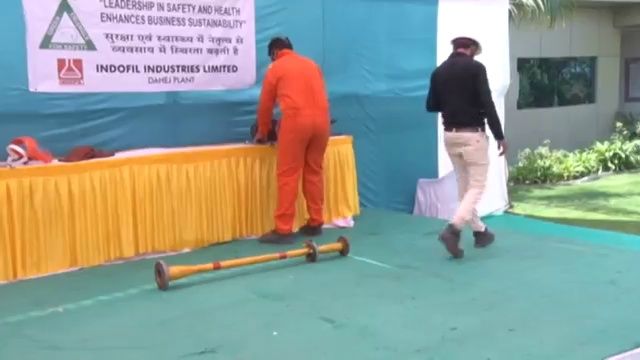helmet: (449, 28, 484, 54)
helmet_off: (266, 36, 292, 61)
helmet_on: (448, 27, 486, 64)
person: (424, 27, 506, 256), (256, 38, 332, 243)
